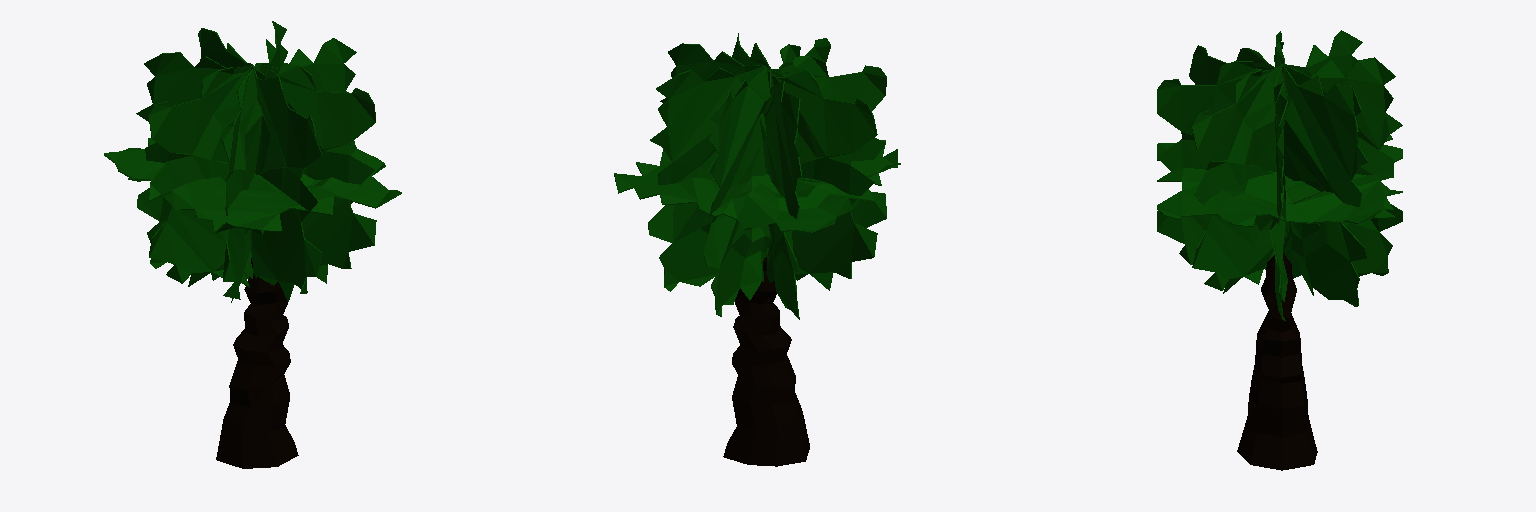
File: drzewo.obj
3 views of the same model, side by side, from view 1: azimuth 30°, elevation 25°; view 2: azimuth 150°, elevation 25°; view 3: azimuth 270°, elevation 25° (orthographic).
Visible parts, largest first — view 1: Plane.003, Plane, Plane.001, Cylinder, Plane.004, Plane.002; view 2: Plane.002, Plane, Plane.001, Cylinder, Plane.004, Plane.003; view 3: Plane.002, Plane.003, Plane.001, Cylinder, Plane.004, Plane.
Boxes of the visible parts, x1=… form: Plane.003: x1=136, y1=52, x2=376, y2=283; Plane: x1=148, y1=38, x2=356, y2=286; Plane.001: x1=198, y1=28, x2=322, y2=301; Cylinder: x1=216, y1=258, x2=298, y2=468; Plane.004: x1=104, y1=138, x2=401, y2=232; Plane.002: x1=222, y1=21, x2=287, y2=302; Plane.002: x1=648, y1=55, x2=886, y2=291; Plane: x1=660, y1=43, x2=877, y2=290; Plane.001: x1=703, y1=38, x2=830, y2=316; Cylinder: x1=723, y1=257, x2=809, y2=466; Plane.004: x1=614, y1=140, x2=900, y2=233; Plane.003: x1=732, y1=33, x2=801, y2=319; Plane.002: x1=1189, y1=45, x2=1368, y2=306; Plane.003: x1=1191, y1=30, x2=1362, y2=293; Plane.001: x1=1157, y1=57, x2=1402, y2=276; Cylinder: x1=1237, y1=253, x2=1317, y2=470; Plane.004: x1=1157, y1=132, x2=1402, y2=226; Plane: x1=1270, y1=31, x2=1289, y2=321.
Bounding box in the file's own units: 2 × 3.5 × 2.